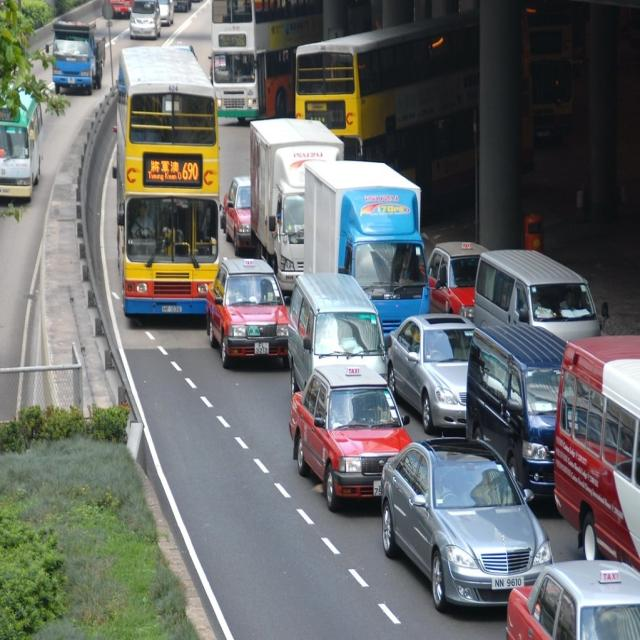Caminhao: (304, 160, 430, 362), (250, 122, 347, 296)
Carro Azul Escuro: (469, 324, 586, 502)
Carro Prata: (374, 425, 556, 619), (476, 246, 606, 364), (288, 276, 386, 407), (382, 319, 480, 428)
Onibus: (116, 44, 223, 330), (302, 16, 481, 180), (210, 2, 320, 108)
Taxi: (280, 358, 402, 508), (500, 552, 640, 640), (205, 253, 299, 362), (428, 239, 490, 328), (226, 175, 258, 260)
